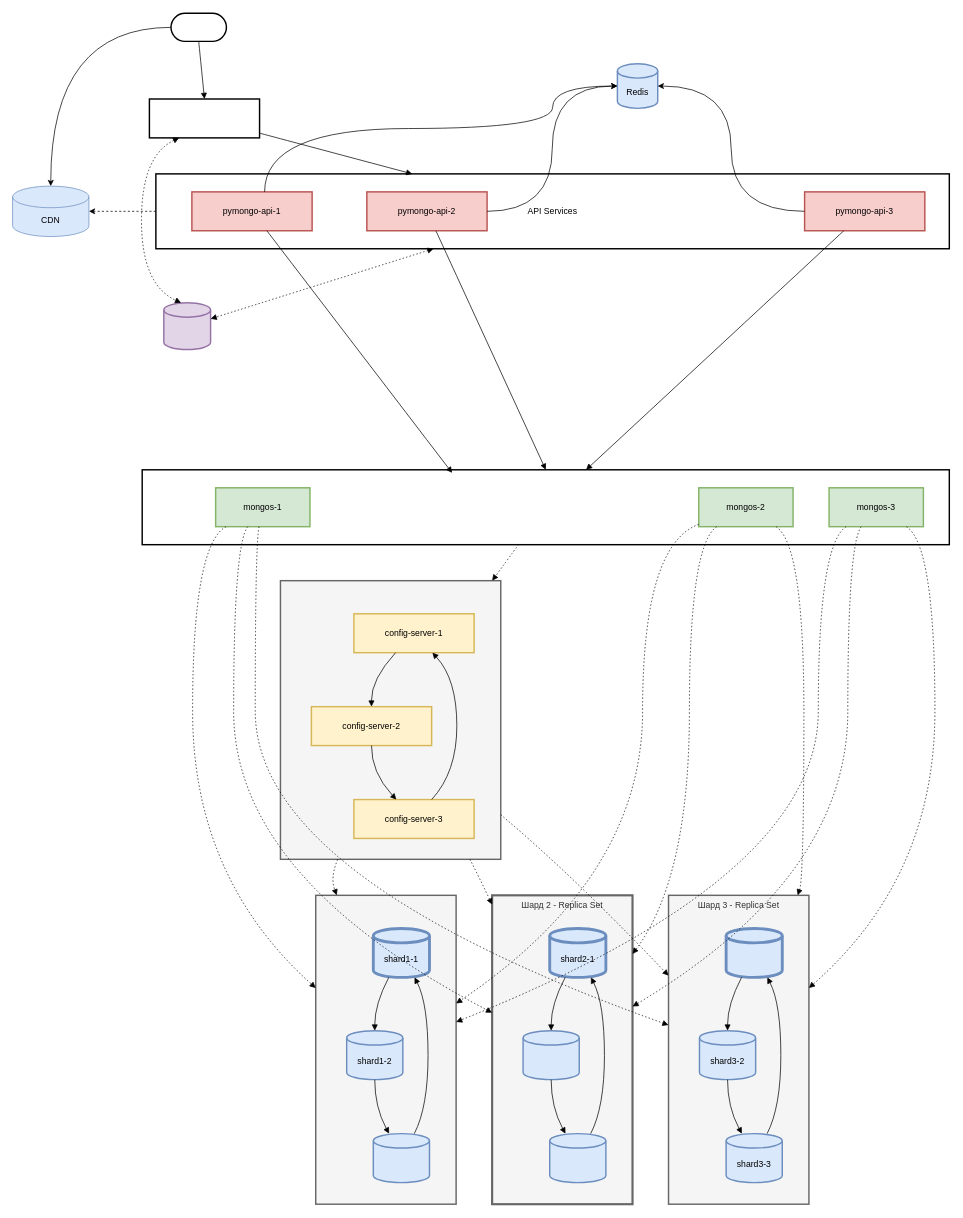
Image size: 963x1218. Some labels were removed from this diagram. The shapes that lost their labels are listed below. From the top down, each one's box as (x1, y1, x2, y2) in pixels, then its label:
(170, 12, 227, 42): Клиент
(148, 98, 260, 138): API Gateway
(163, 302, 211, 350): Consul
(141, 469, 950, 545): Mongos-Роутеры
(279, 580, 501, 860): Config Servers Replica Set
(724, 927, 783, 978): shard3-1
(315, 894, 456, 1205): Шард 1 - Replica Set
(522, 1030, 580, 1080): shard2-2
(372, 1133, 430, 1183): shard1-3
(549, 1133, 606, 1183): shard2-3
